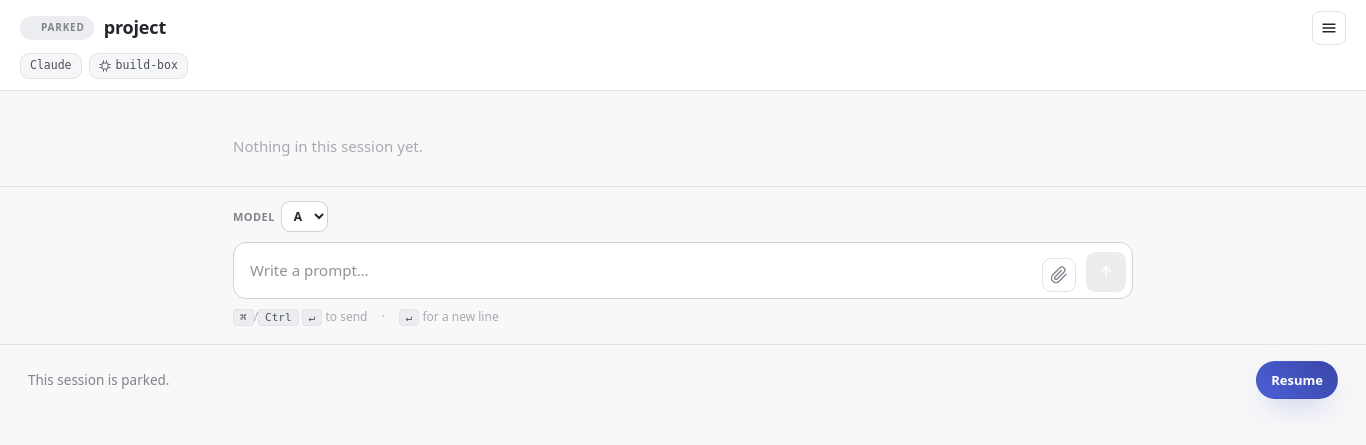
Scenario: SessionView: a refused resume, in words › starting (409) is put in words
Check: the element named "Host" reads "build-box", box [116,58,178,72]
Step 1. Click the button "Resume" → (1297, 380), box [1256,361,1338,399]
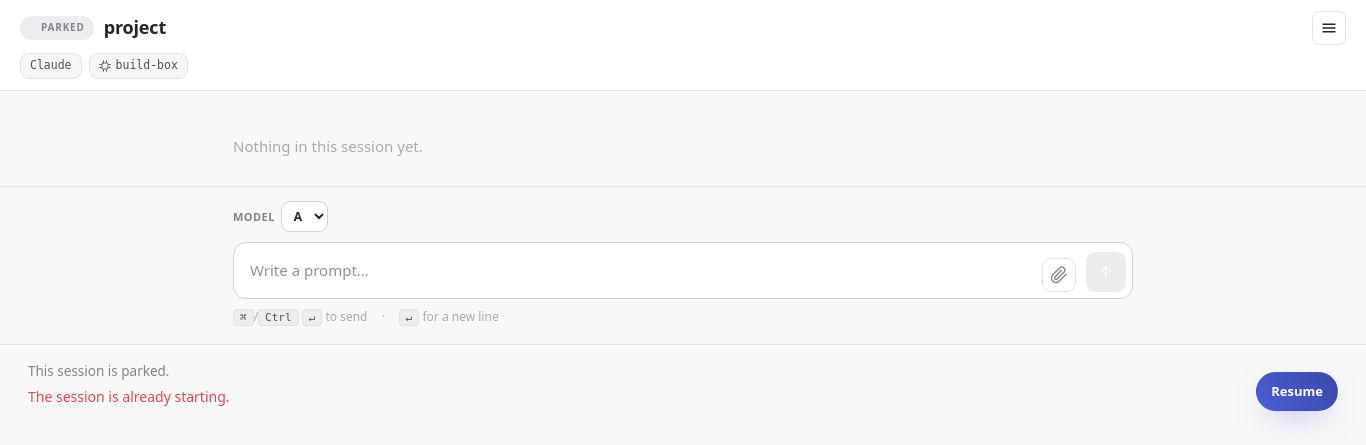
Check: the button "Resume" is enabled, box [1256,372,1338,410]
Check: the text "The session is already starting." is shown, box [28,387,230,406]
